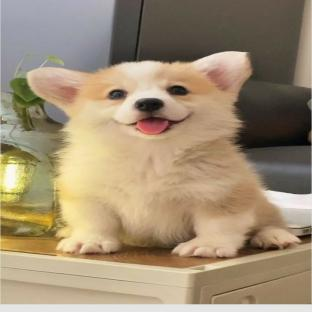Animal: (27, 51, 300, 258)
